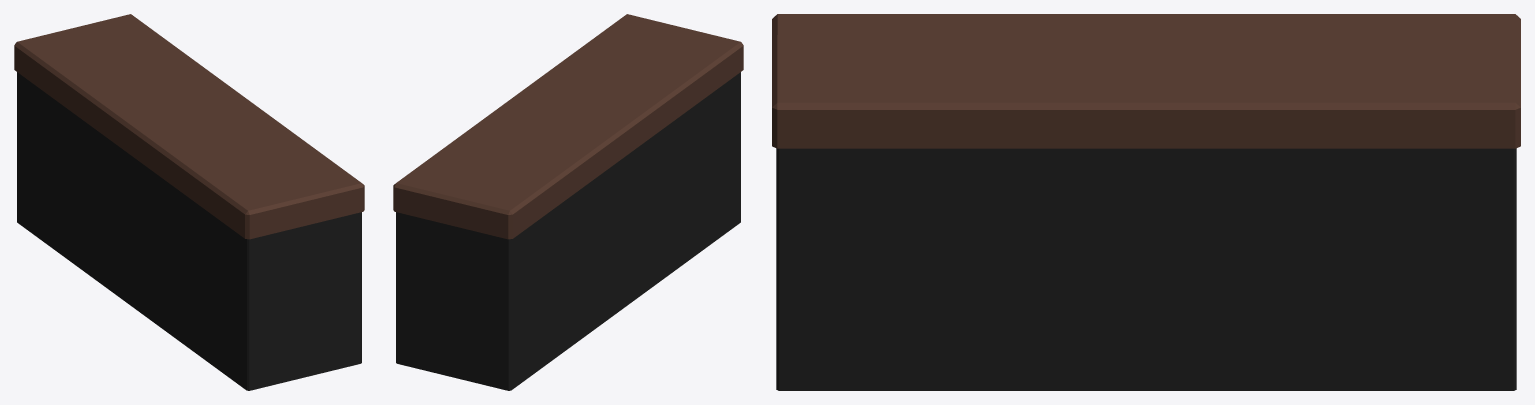
The model's file is counterOrders.fbx.
3 renders of one model, left to right at view 1: azimuth 30°, elevation 25°; view 2: azimuth 150°, elevation 25°; view 3: azimuth 270°, elevation 25°, orthographic. The views are drawn at different scales.
Parts seen in each view (by area): view 1: Cube.008; view 2: Cube.008; view 3: Cube.008.
Part boxes in pixels (x1=…): Cube.008: x1=14, y1=14, x2=364, y2=390; Cube.008: x1=393, y1=14, x2=743, y2=390; Cube.008: x1=772, y1=14, x2=1520, y2=390.
Size of the model in its own units: 1774 by 752 by 523.
